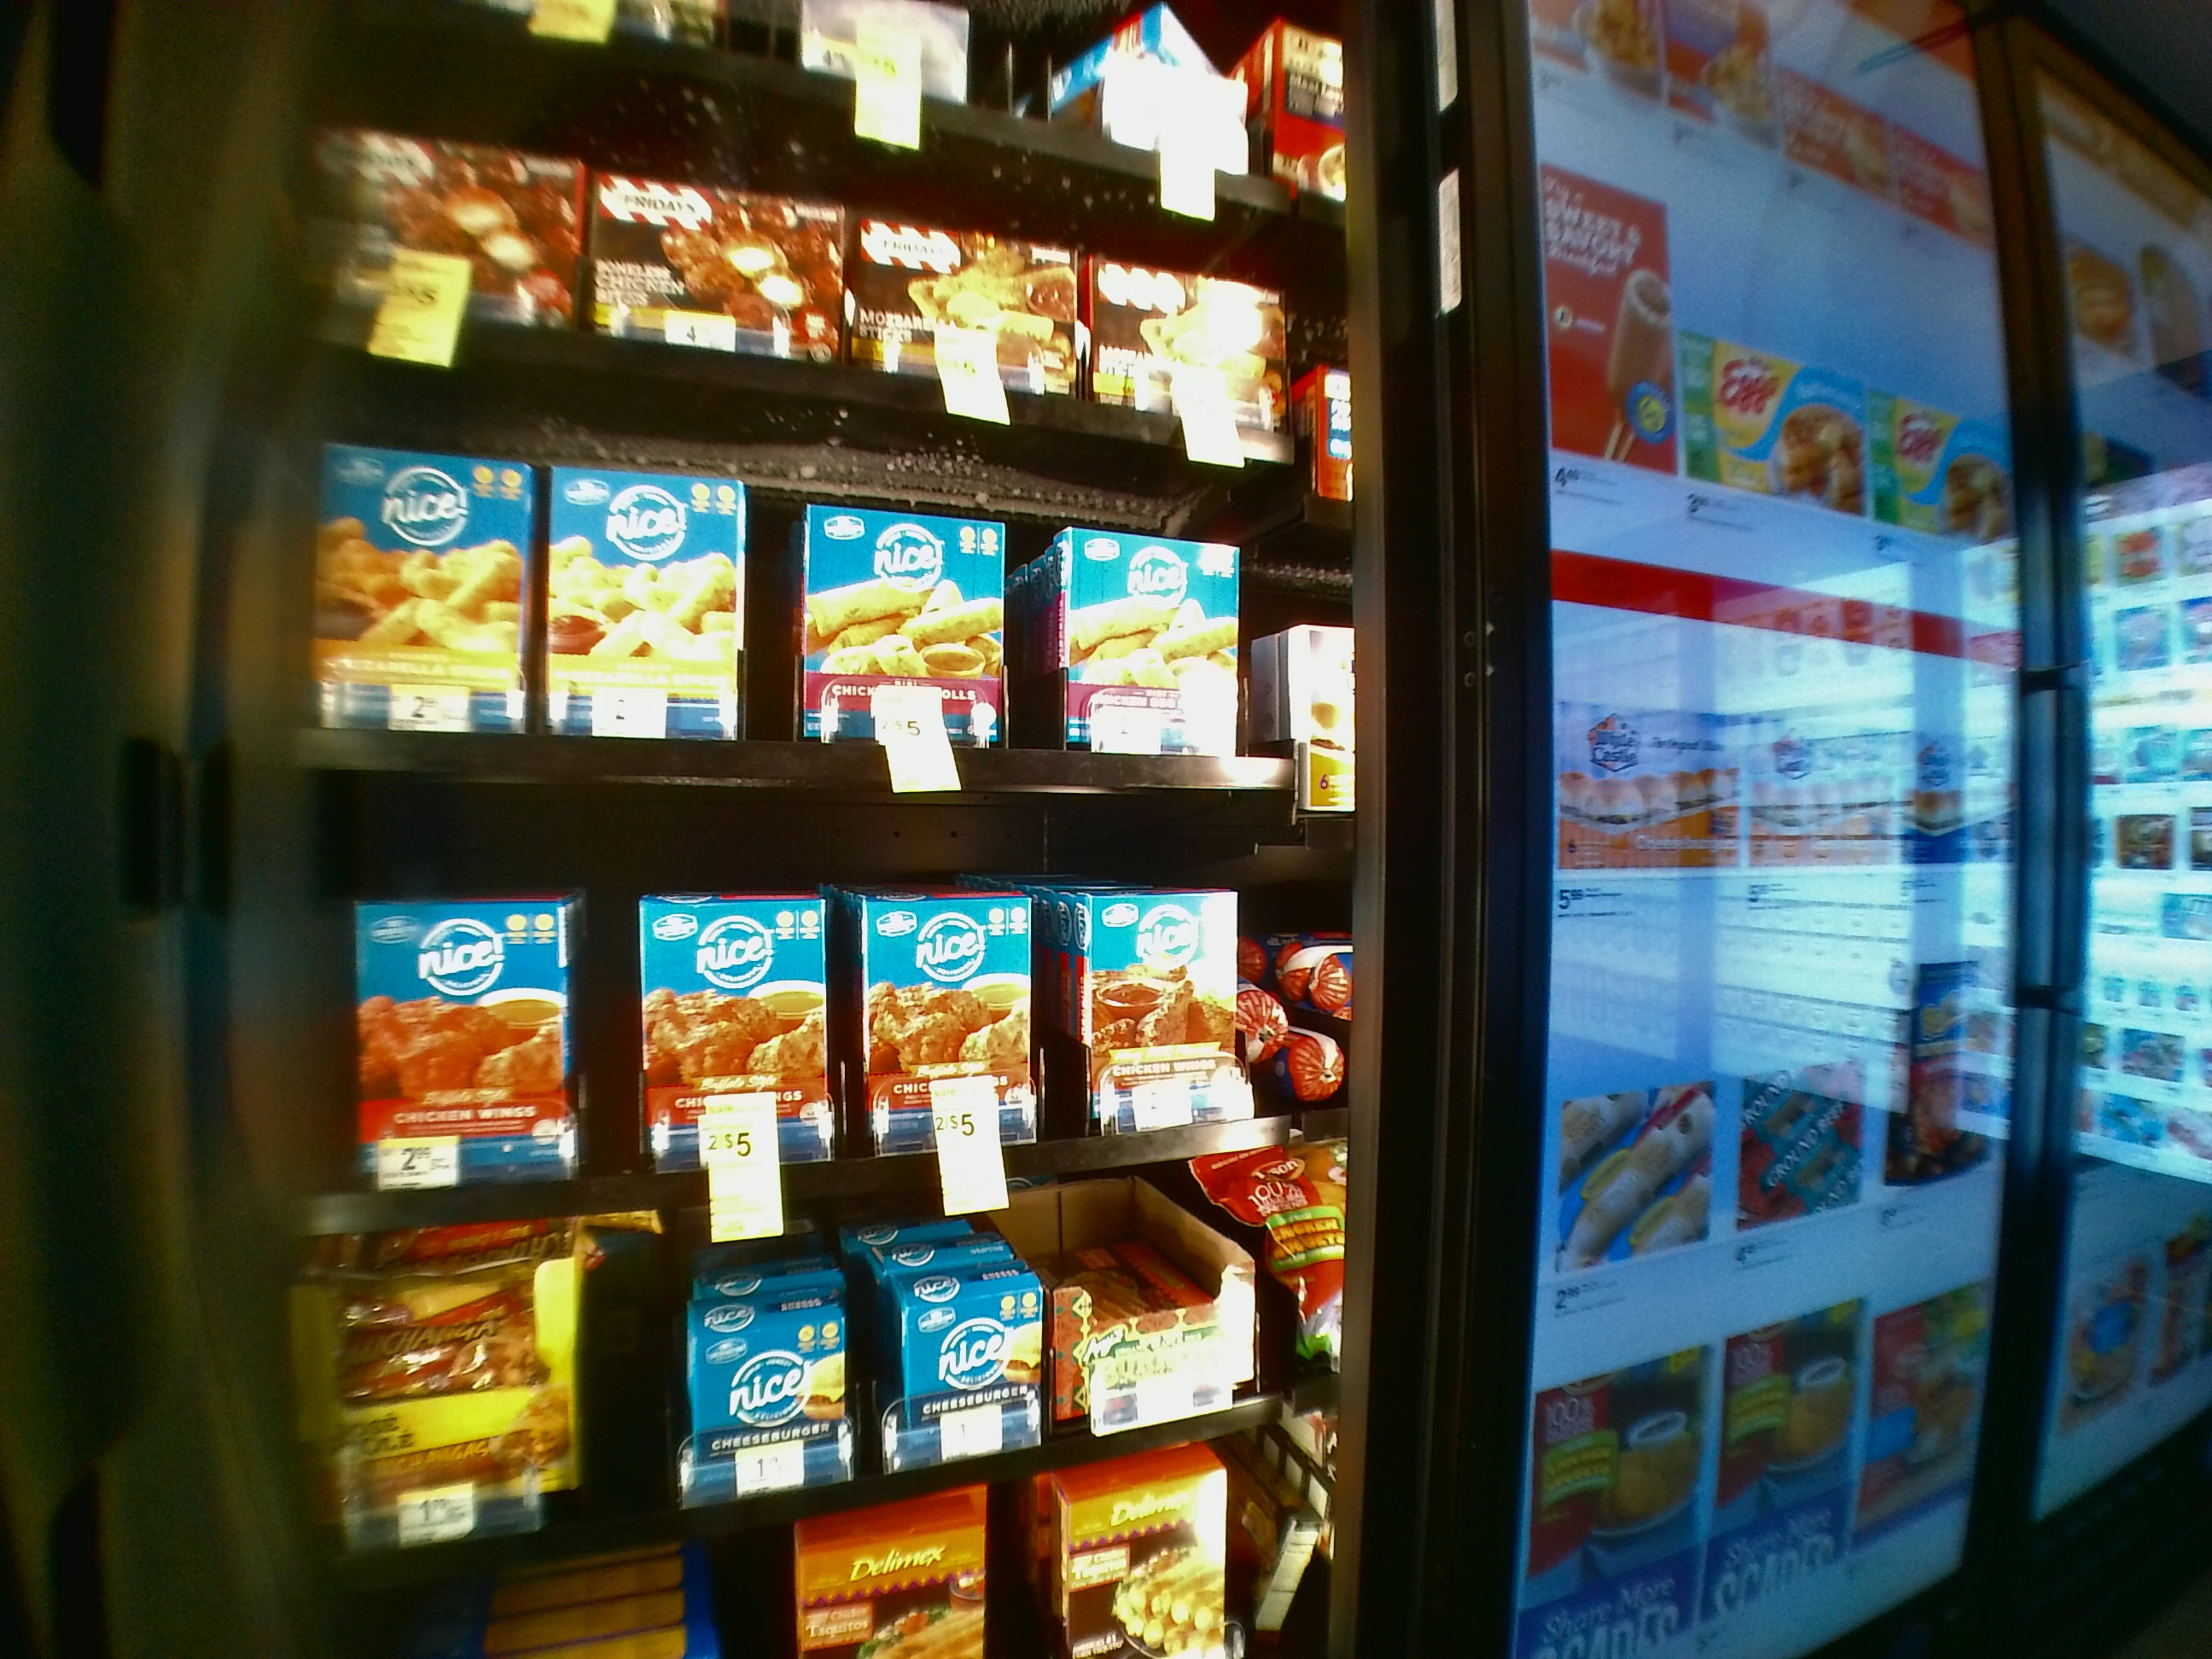shelf: (291, 345, 1343, 779), (280, 807, 1350, 1230)
